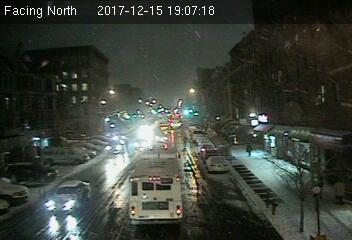bus: (130, 148, 185, 222)
car: (45, 180, 90, 211), (204, 154, 229, 172)
